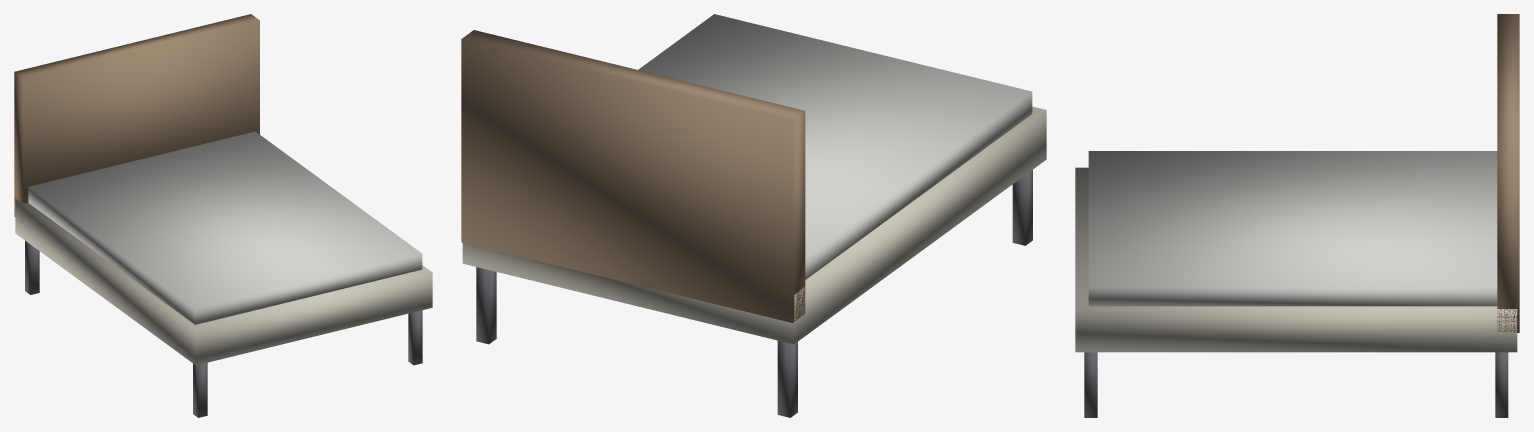
File: motel_bed__compact.glb
3 renders of one model, left to right at view 1: azimuth 30°, elevation 25°; view 2: azimuth 150°, elevation 25°; view 3: azimuth 270°, elevation 25°, orthographic. The views are drawn at different scales.
Parts seen in each view (by area): view 1: world; view 2: world; view 3: world.
Part boxes in pixels (box(x1,y1,x2,y2)): world: box(14, 14, 432, 417); world: box(461, 14, 1046, 417); world: box(1075, 14, 1519, 417).
Bounding box in the file's own units: 1.3 × 1.14 × 1.73.
